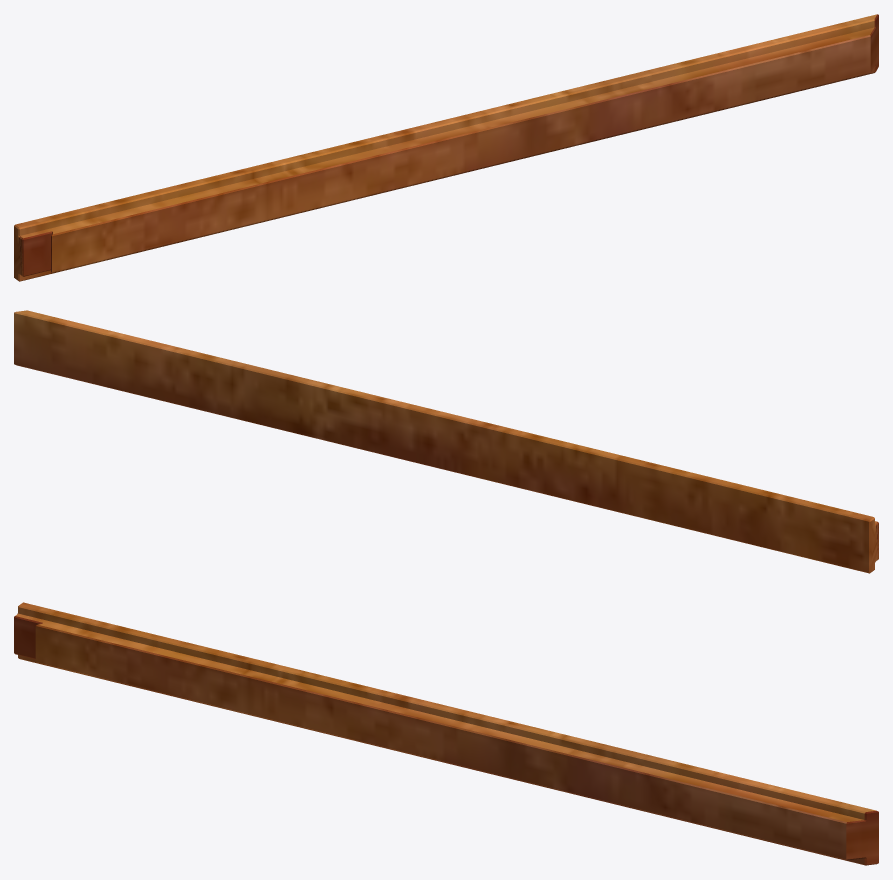
The model's file is baxianzhuo_J_shuyao_03.FBX.
3 renders of one model, top to bottom at view 1: azimuth 30°, elevation 25°; view 2: azimuth 150°, elevation 25°; view 3: azimuth 330°, elevation 25°, orthographic.
Parts seen in each view (by area): view 1: baxianzhuo_J_shuyao_03; view 2: baxianzhuo_J_shuyao_03; view 3: baxianzhuo_J_shuyao_03.
Part boxes in pixels (<box>): baxianzhuo_J_shuyao_03: <box>14,14,878,281</box>; baxianzhuo_J_shuyao_03: <box>14,310,878,573</box>; baxianzhuo_J_shuyao_03: <box>14,602,878,865</box>.
Size of the model in its own units: 46.96 by 2.8 by 1.2.
1 material, 1 textured.
